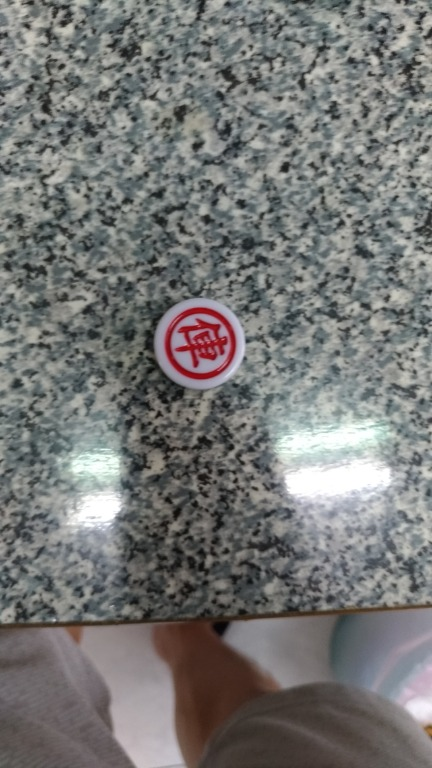r-rook: (149, 290, 261, 395)
